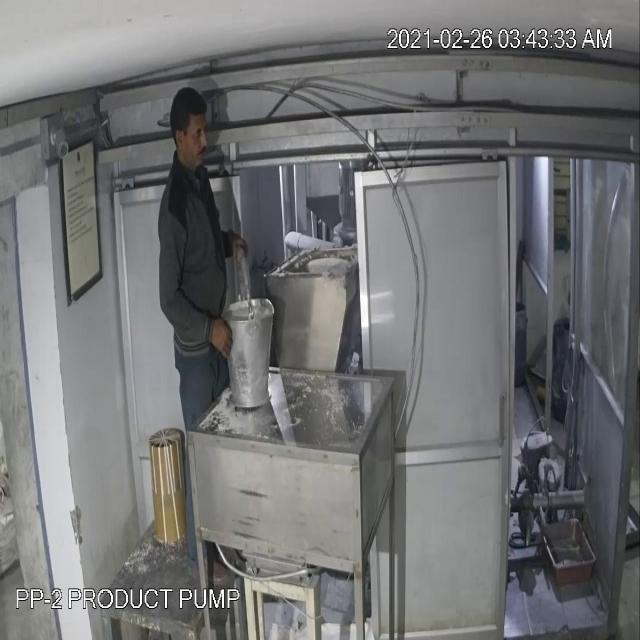no-helmet: (170, 77, 208, 171)
